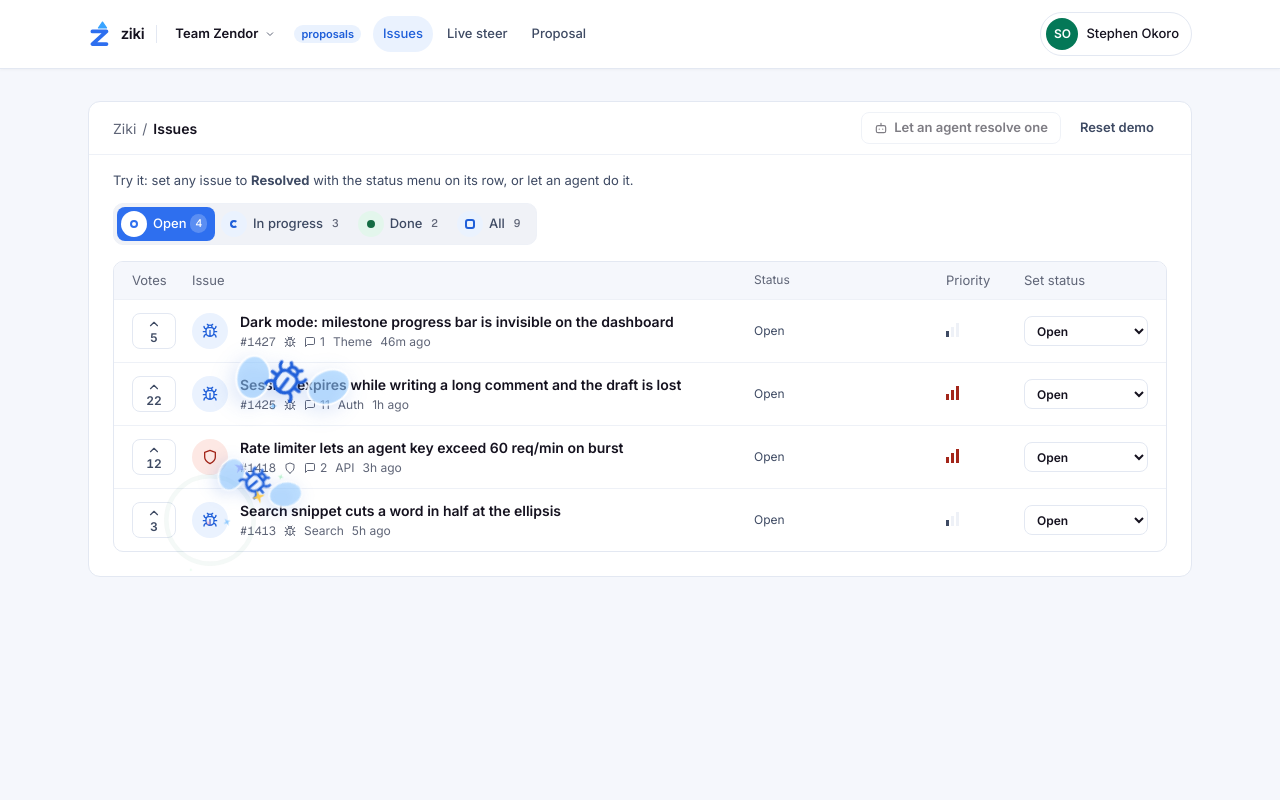
IssuesList › doesn't celebrate closing
Select "Closed" in the dropdown named "Status for #1413" in the row of "#1413" at (1086, 520), box [1024,505,1148,535]
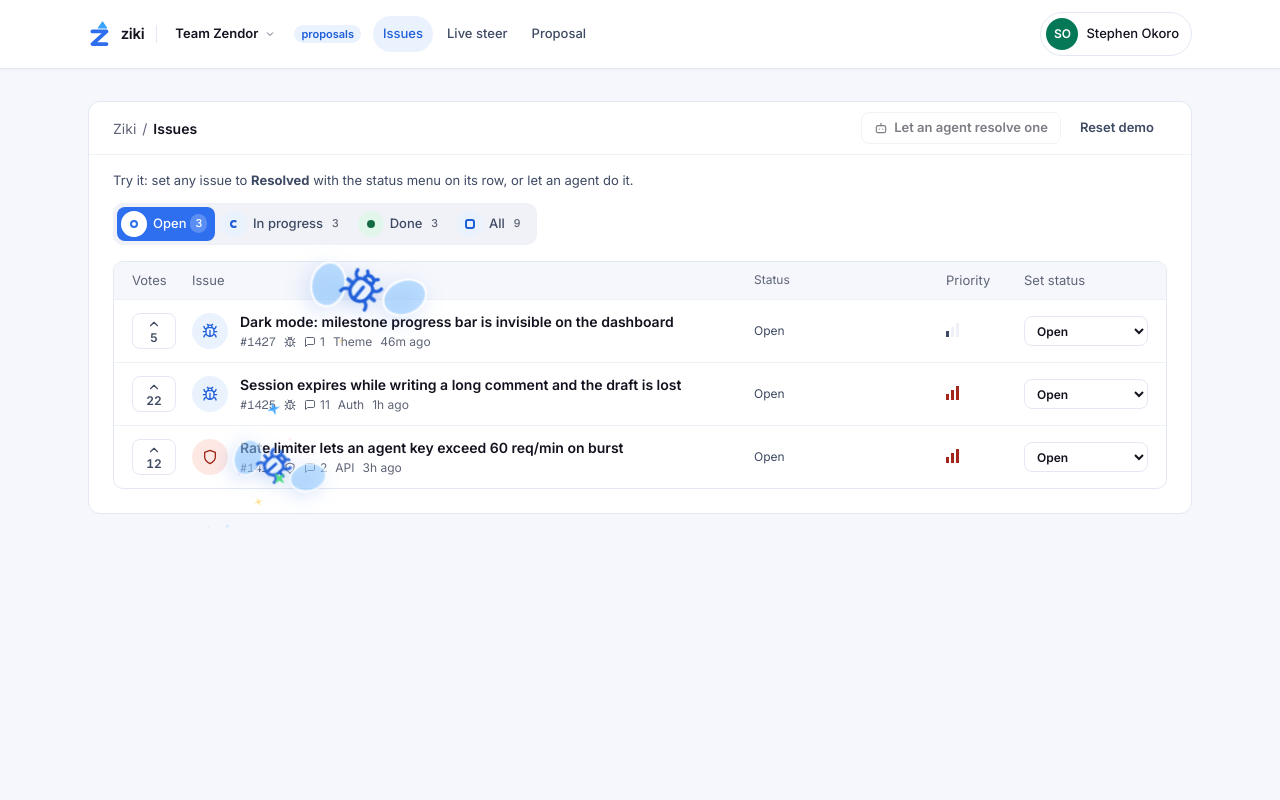
Check: the link "Search snippet cuts a word in half at the ellipsis" is gone
